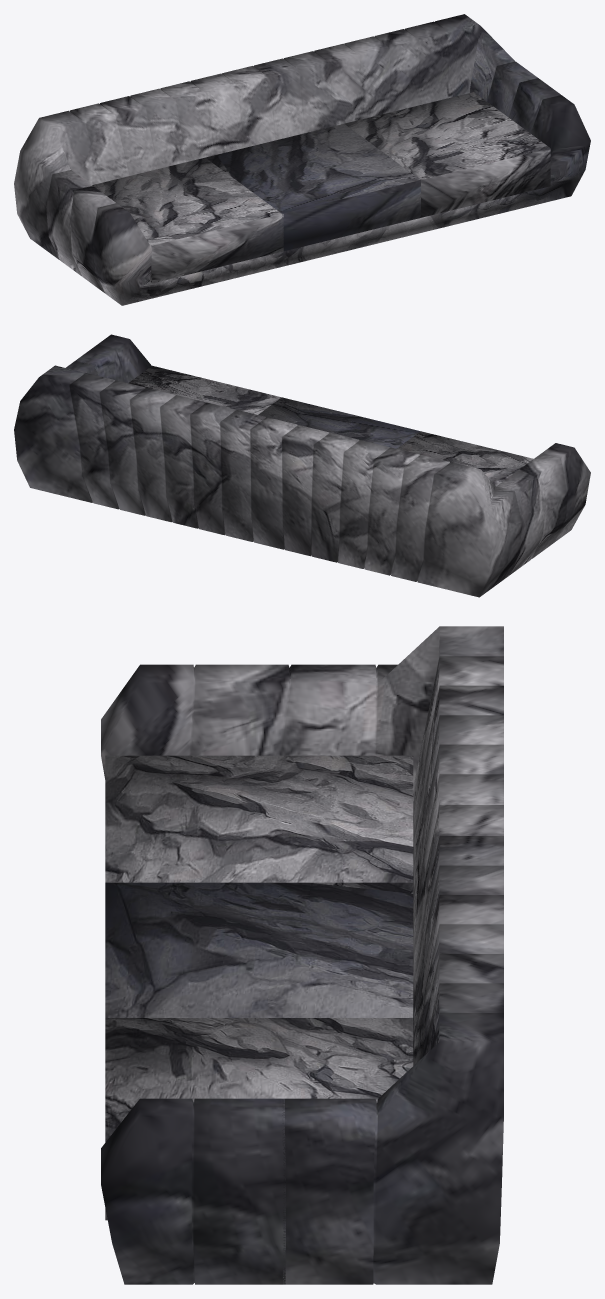
Rendered from Sillon.obj.
3 renders of one model, top to bottom at view 1: azimuth 30°, elevation 25°; view 2: azimuth 150°, elevation 25°; view 3: azimuth 270°, elevation 25°, orthographic. The views are drawn at different scales.
Visible parts, largest first — view 1: Mesh; view 2: Mesh; view 3: Mesh.
Part boxes in pixels (x1,y1,x2,y2): Mesh: [14, 14, 590, 305]; Mesh: [14, 334, 590, 597]; Mesh: [101, 626, 503, 1284].
Bounding box in the file's own units: 2.63 × 0.6108 × 0.9641.
4 materials, 4 textured.
